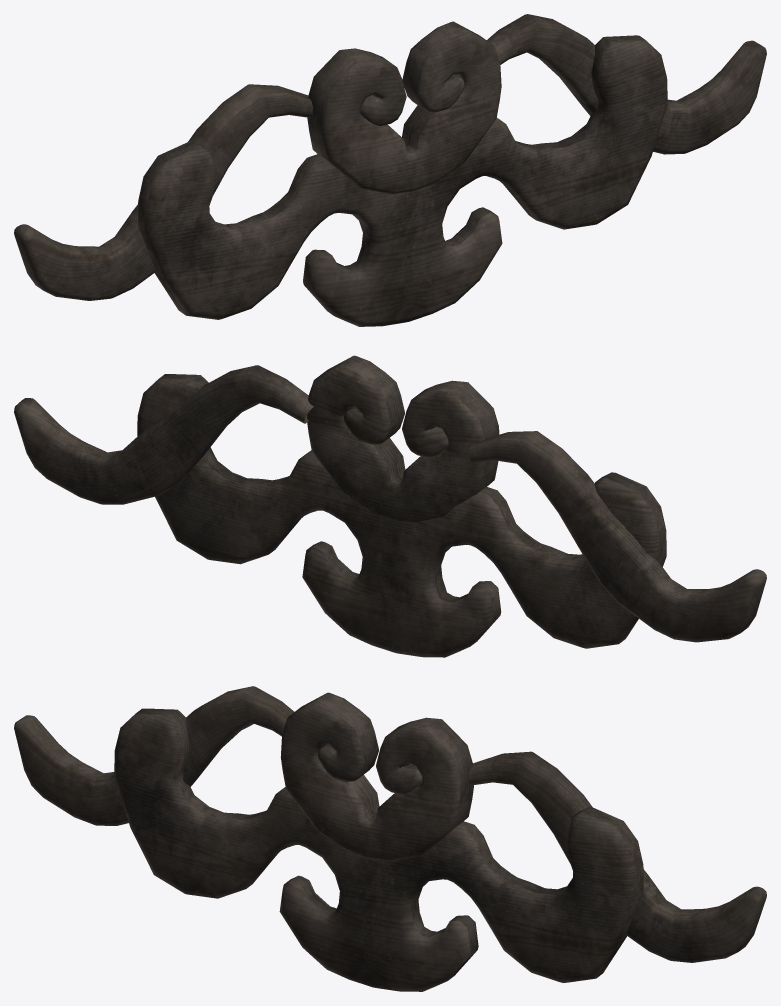
Rendered from ShrineModule_Roof-08.fbx.
3 renders of one model, top to bottom at view 1: azimuth 30°, elevation 25°; view 2: azimuth 150°, elevation 25°; view 3: azimuth 330°, elevation 25°, orthographic.
Parts seen in each view (by area): view 1: ShrineModule_Roof-08; view 2: ShrineModule_Roof-08; view 3: ShrineModule_Roof-08.
Part boxes in pixels (x1,y1,x2,y2): ShrineModule_Roof-08: (14,14,766,326); ShrineModule_Roof-08: (14,355,766,657); ShrineModule_Roof-08: (14,686,766,991).
Bounding box in the file's own units: 1.11 × 0.3952 × 0.0904.
